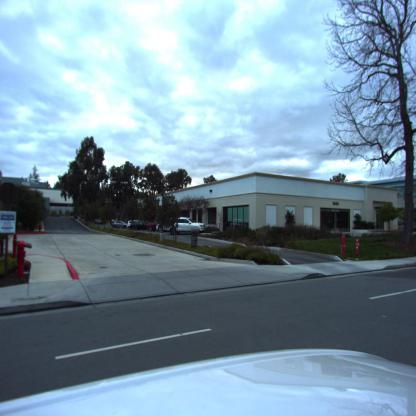car: (170, 218, 206, 235), (128, 221, 148, 231), (110, 220, 126, 229)
fire hydrant: (338, 234, 349, 257), (355, 240, 361, 256)
